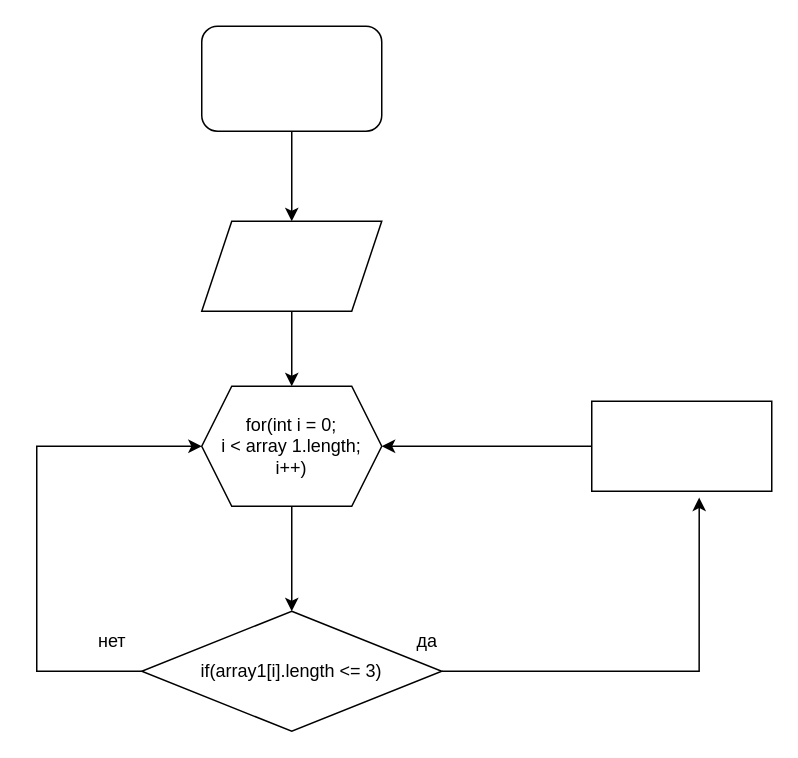
Some shapes in this 798 by 758 pixel diagram are drawn without their labels. Each missing label, with the centre of its shape:
"array2[count] = array1[i] count++;" goes at (681,445).
"string[] array1 string array2 int count = 0" goes at (291,265).
